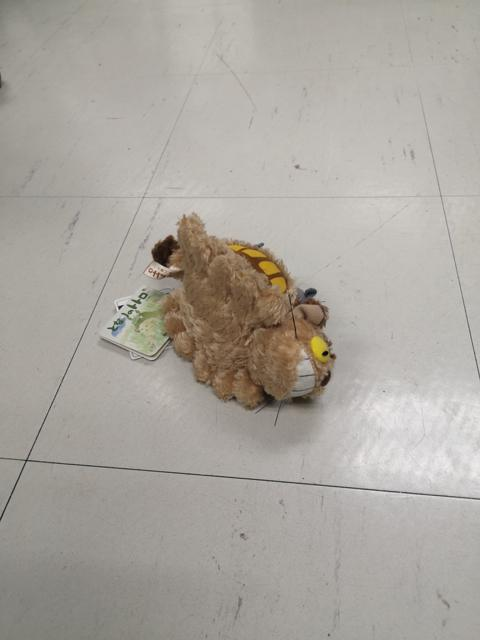nekobus: (141, 203, 341, 433)
